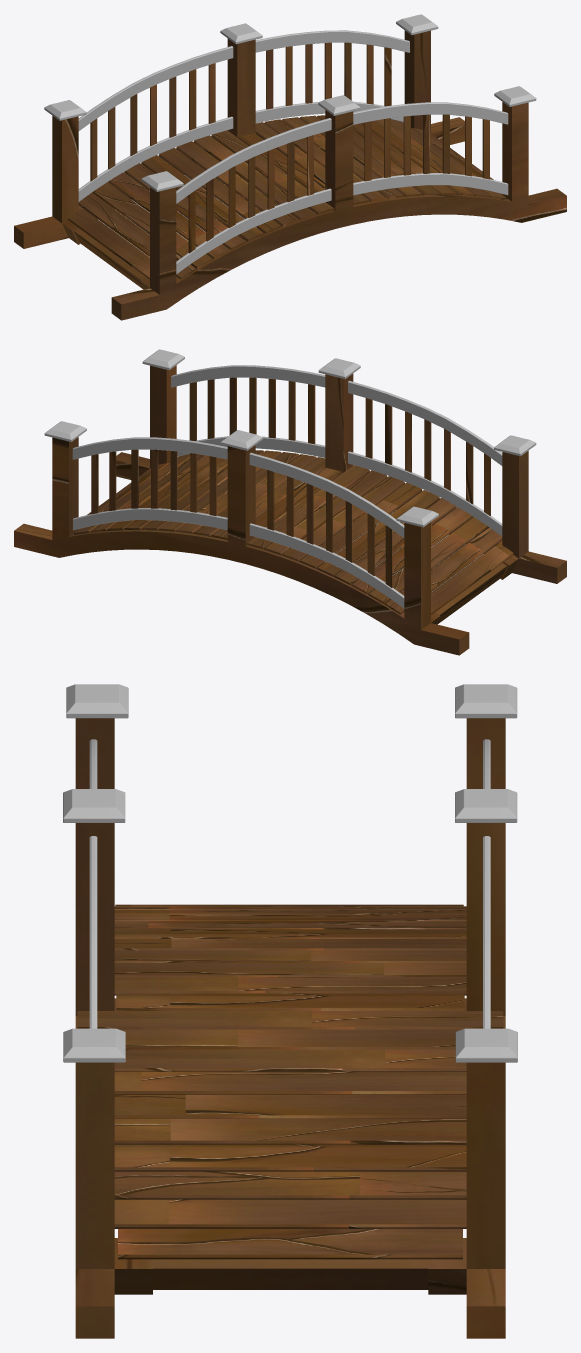
The model's file is Bridge.fbx.
3 renders of one model, top to bottom at view 1: azimuth 30°, elevation 25°; view 2: azimuth 150°, elevation 25°; view 3: azimuth 270°, elevation 25°, orthographic. The views are drawn at different scales.
Parts seen in each view (by area): view 1: polySurface63.006; view 2: polySurface63.006; view 3: polySurface63.006.
Boxes of the visible parts, x1,y1,x2,y2 form: polySurface63.006: (14, 14, 566, 320); polySurface63.006: (14, 349, 566, 655); polySurface63.006: (63, 684, 517, 1338).
Bounding box in the file's own units: 26.36 × 9.13 × 11.65.
